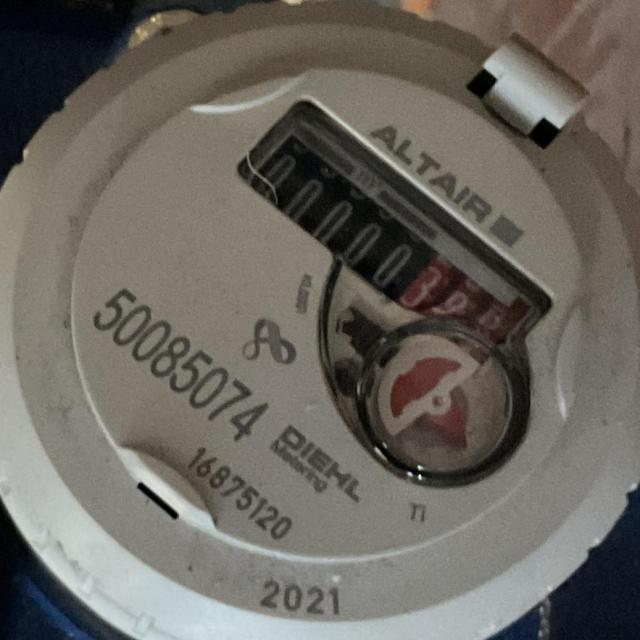gaz_meter: (70, 65, 605, 565)
indication: (235, 96, 543, 370)
